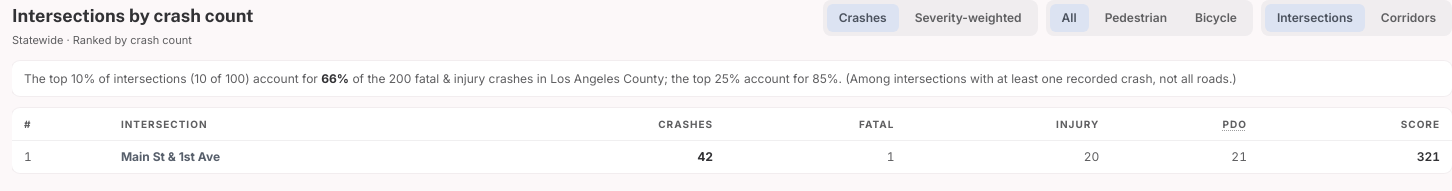
Test: IntersectionsPanel › toggle switches scope to corridors and refetches
This screenshot has width=1452, height=191.
Check: the link "Main St & 1st Ave" is shown, box [121,149,220,164]
Click the radio button labelled "Corridors".
click(1408, 18)  # box [1369,4,1448,32]
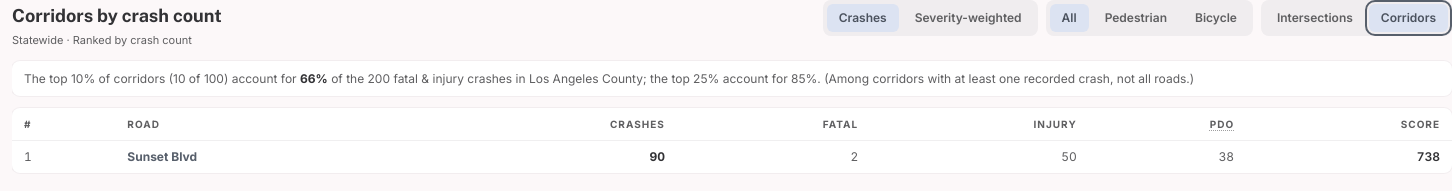
Check: the link "Sunset Blvd" is shown, box [127,149,197,164]
Check: the heading "Corridors by crash count" is shown, box [12,2,222,30]
